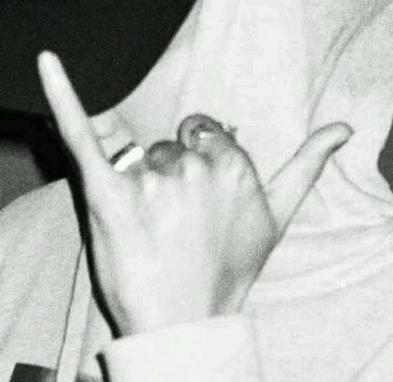clockwise: (34, 41, 357, 317)
